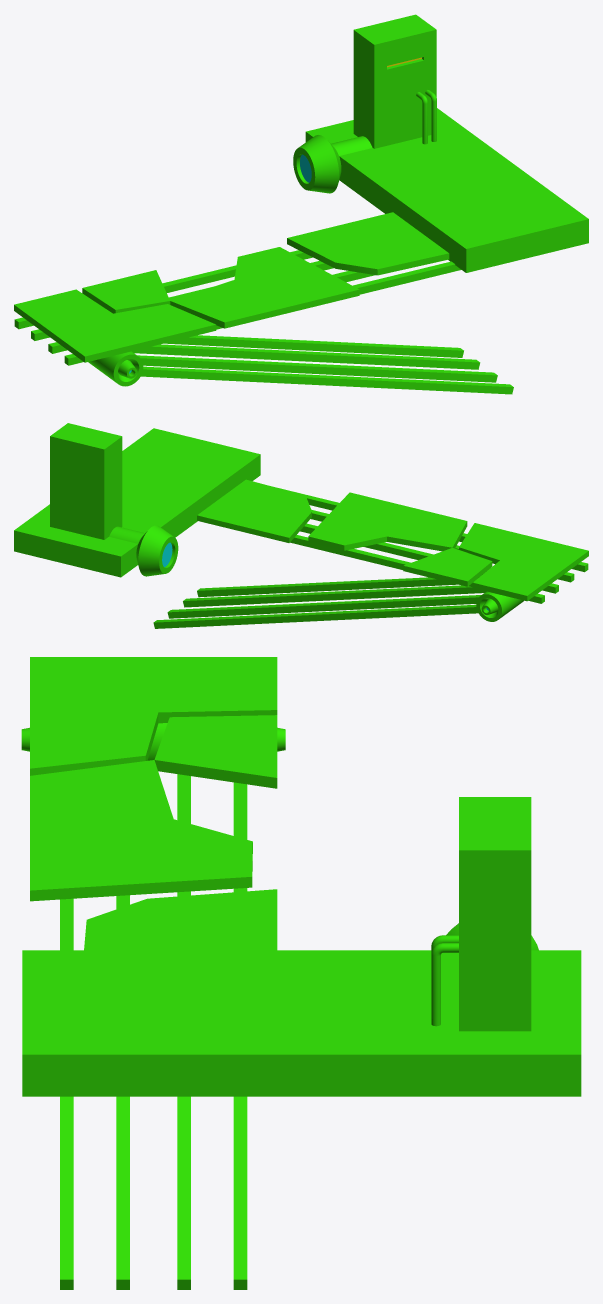
File: OBJ_Dock.fbx
3 views of the same model, one above another, from view 1: azimuth 30°, elevation 25°; view 2: azimuth 150°, elevation 25°; view 3: azimuth 270°, elevation 25° (orthographic). The views are drawn at different scales.
Visible parts, largest first — view 1: OBJ_Dock; view 2: OBJ_Dock; view 3: OBJ_Dock.
Boxes of the visible parts, left/top/right/bottom form: OBJ_Dock: left=14, top=14, right=588, bottom=394; OBJ_Dock: left=14, top=423, right=588, bottom=628; OBJ_Dock: left=21, top=657, right=581, bottom=1289.
Bounding box in the file's own units: 36.55 × 18.6 × 19.96.
